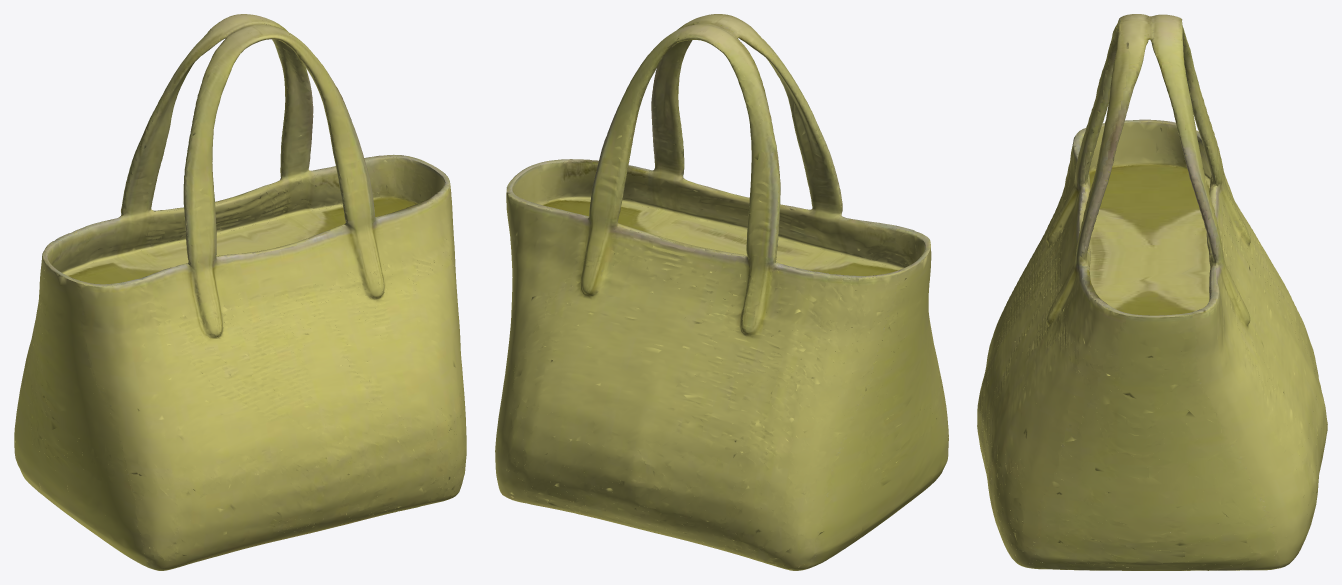
Rendered from lime_tote_texture1024.glb.
3 renders of one model, left to right at view 1: azimuth 30°, elevation 25°; view 2: azimuth 150°, elevation 25°; view 3: azimuth 270°, elevation 25°, orthographic. The views are drawn at different scales.
Parts seen in each view (by area): view 1: lime_tote_safe; view 2: lime_tote_safe; view 3: lime_tote_safe.
Boxes of the visible parts, x1,y1,x2,y2 form: lime_tote_safe: (14, 14, 466, 570); lime_tote_safe: (495, 14, 948, 570); lime_tote_safe: (977, 14, 1327, 570).
Size of the model in its own units: 0.16 by 0.18 by 0.12.
Materials: 1 (1 with a texture image).
